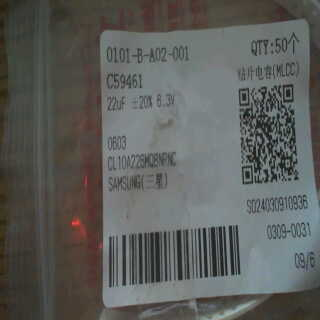22uF: (105, 92, 130, 117)
